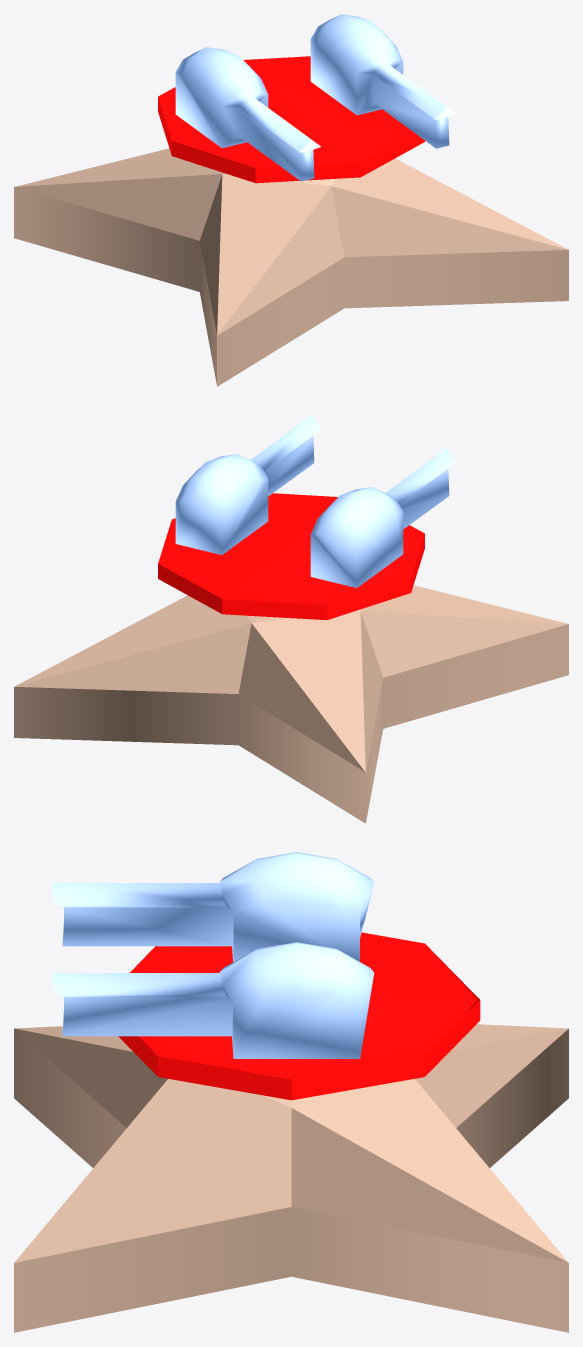
Rendered from obj_turret.fbx.
3 renders of one model, top to bottom at view 1: azimuth 30°, elevation 25°; view 2: azimuth 150°, elevation 25°; view 3: azimuth 270°, elevation 25°, orthographic. The views are drawn at different scales.
Parts seen in each view (by area): view 1: obj_turret; view 2: obj_turret; view 3: obj_turret.
Part boxes in pixels (x1,y1,x2,y2): obj_turret: (14, 14, 568, 386); obj_turret: (14, 415, 568, 823); obj_turret: (14, 852, 568, 1332).
Size of the model in its own units: 199 by 125 by 199.
